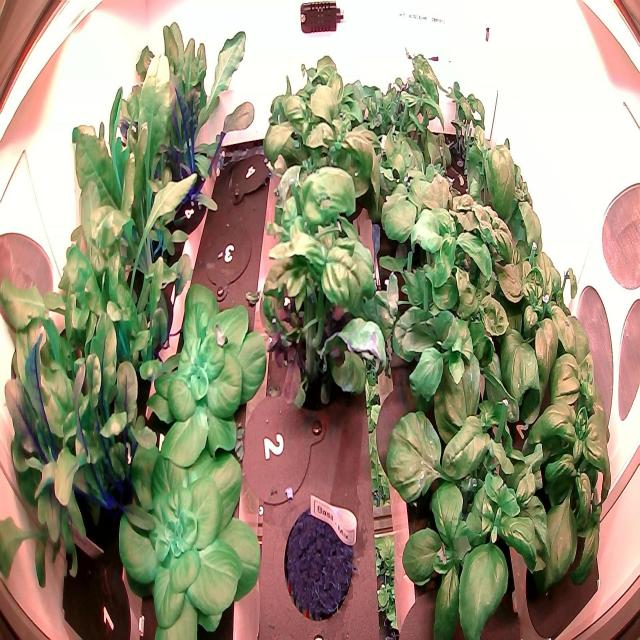empty_pod: (194, 208, 256, 305), (221, 137, 272, 208)
pod: (280, 498, 356, 627)
young: (113, 432, 269, 640), (138, 267, 272, 471)
